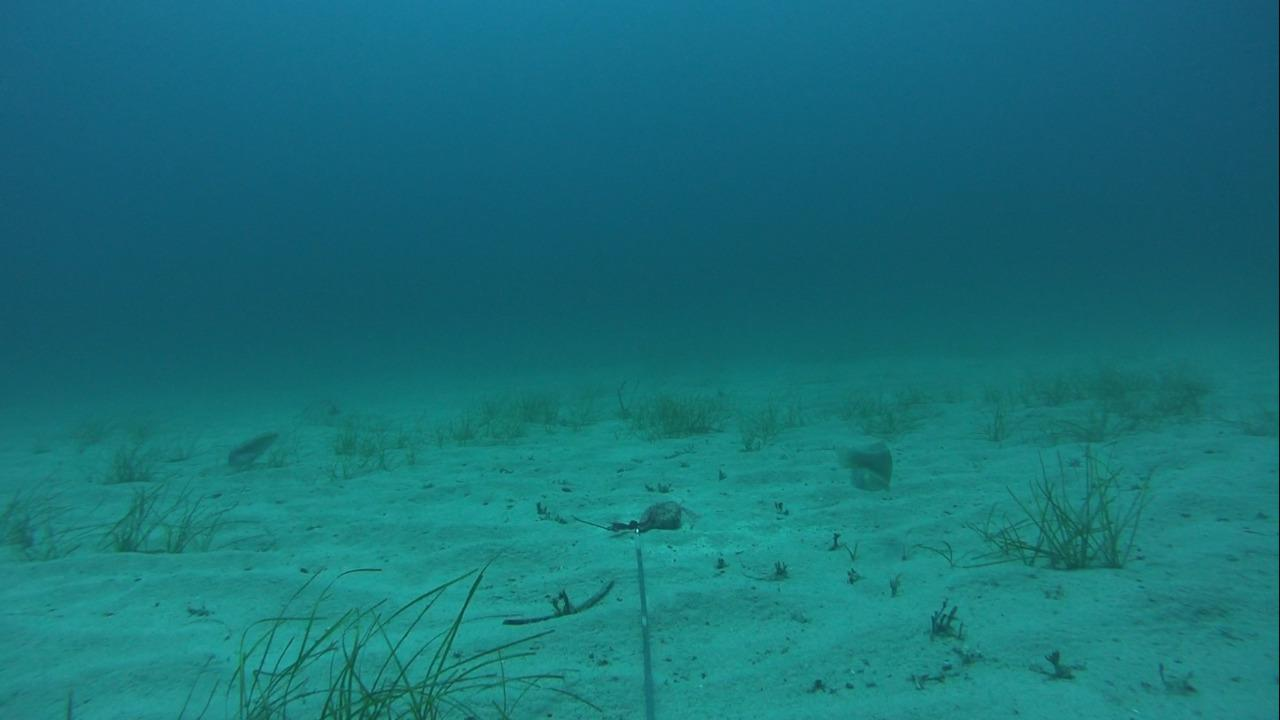raor: (834, 438, 895, 492), (225, 425, 284, 468)
